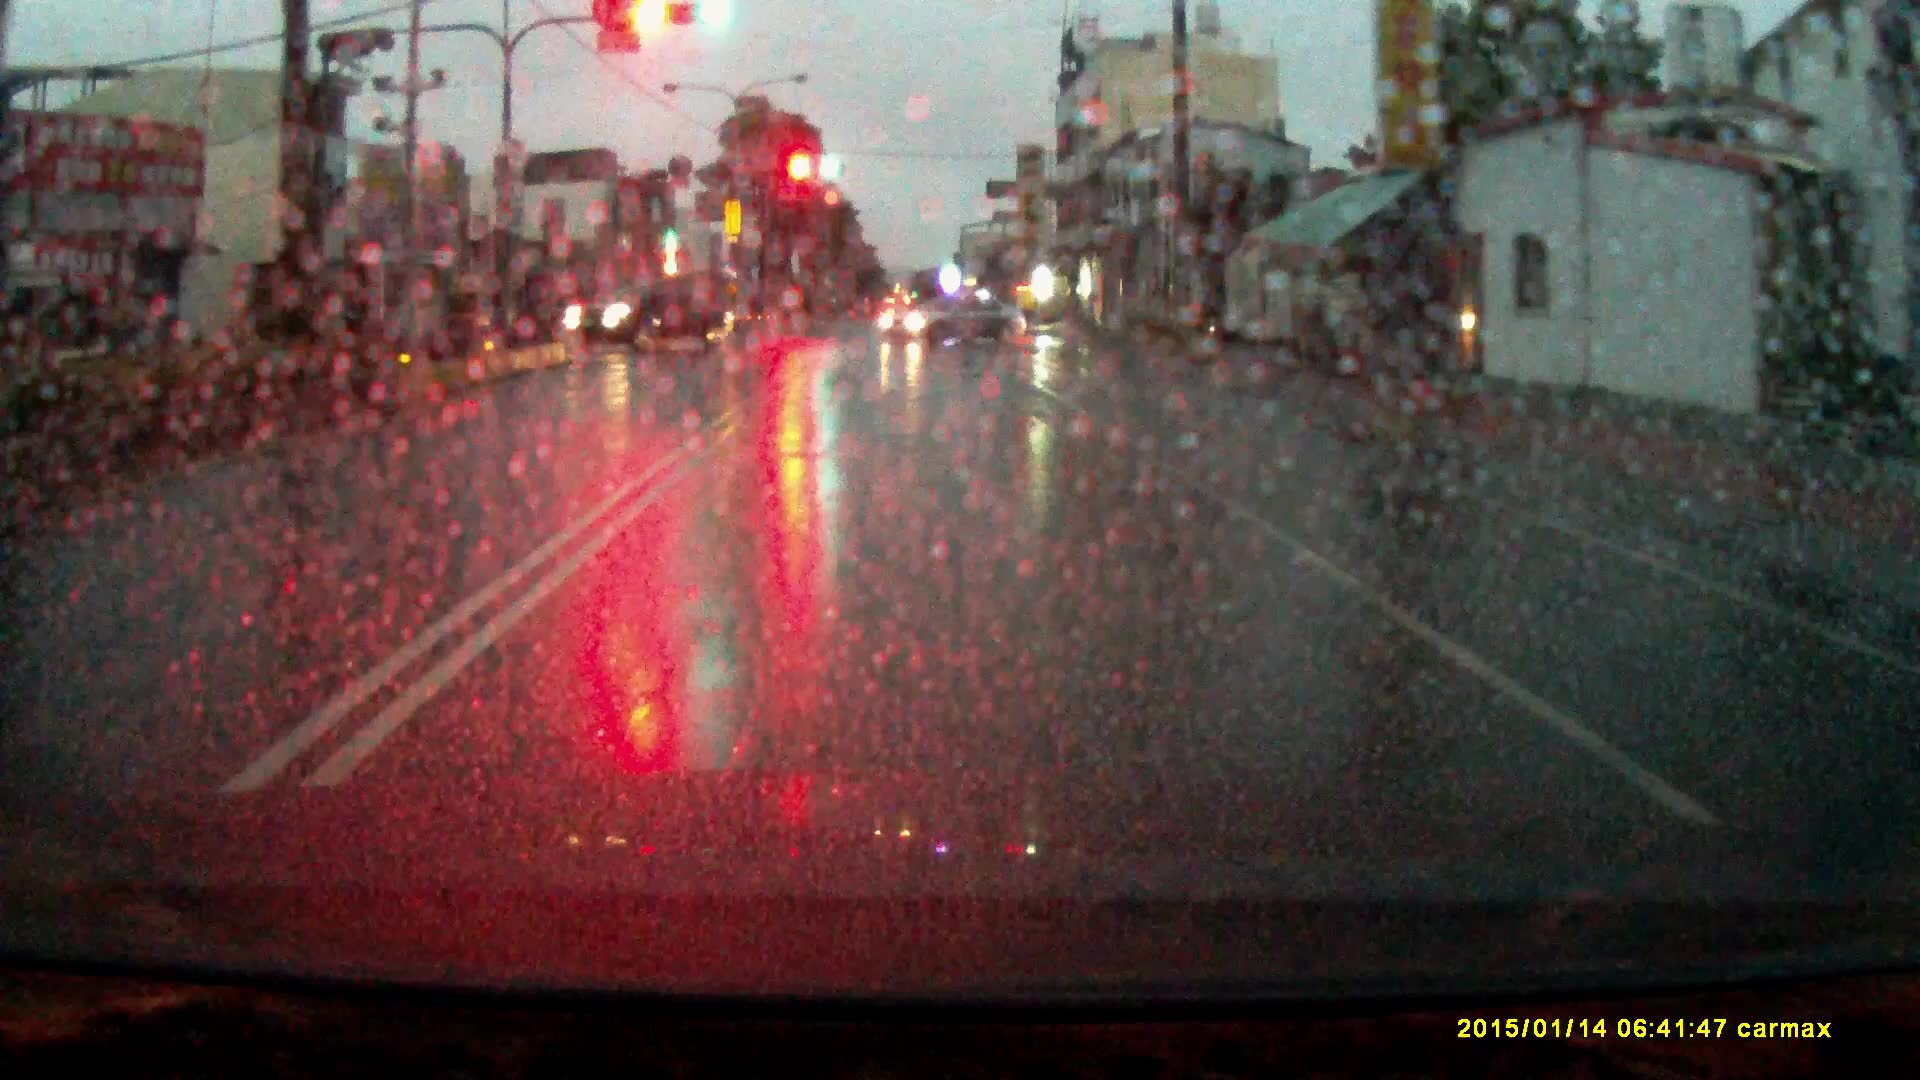vehicle: (563, 274, 738, 361), (881, 291, 1031, 345)
